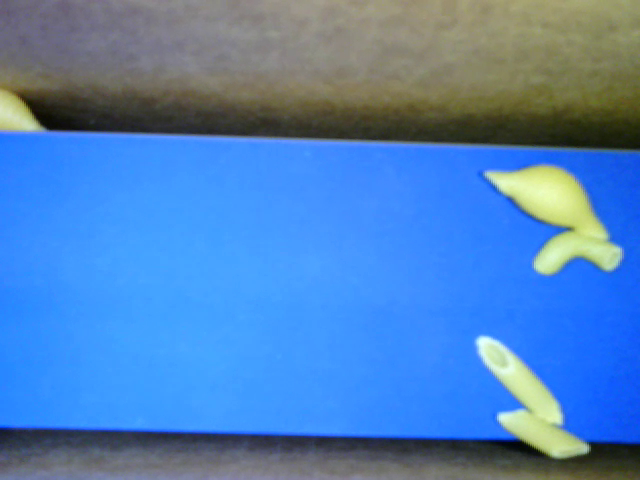elbow: (530, 228, 621, 277)
penne: (474, 332, 565, 428), (491, 409, 590, 461)
shell: (482, 160, 609, 239), (1, 89, 50, 131)
